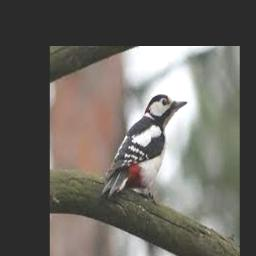Woodpecker: (102, 94, 188, 203)
